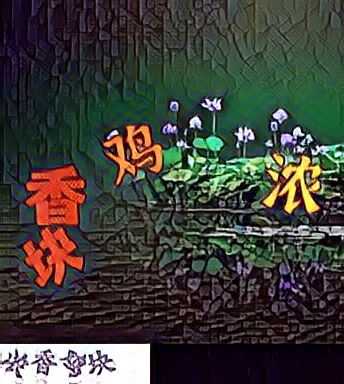BCA6: (102, 121, 165, 187)
BFE9: (21, 225, 84, 291)
C5A8: (262, 150, 325, 216)
CFE3: (23, 162, 86, 228)
